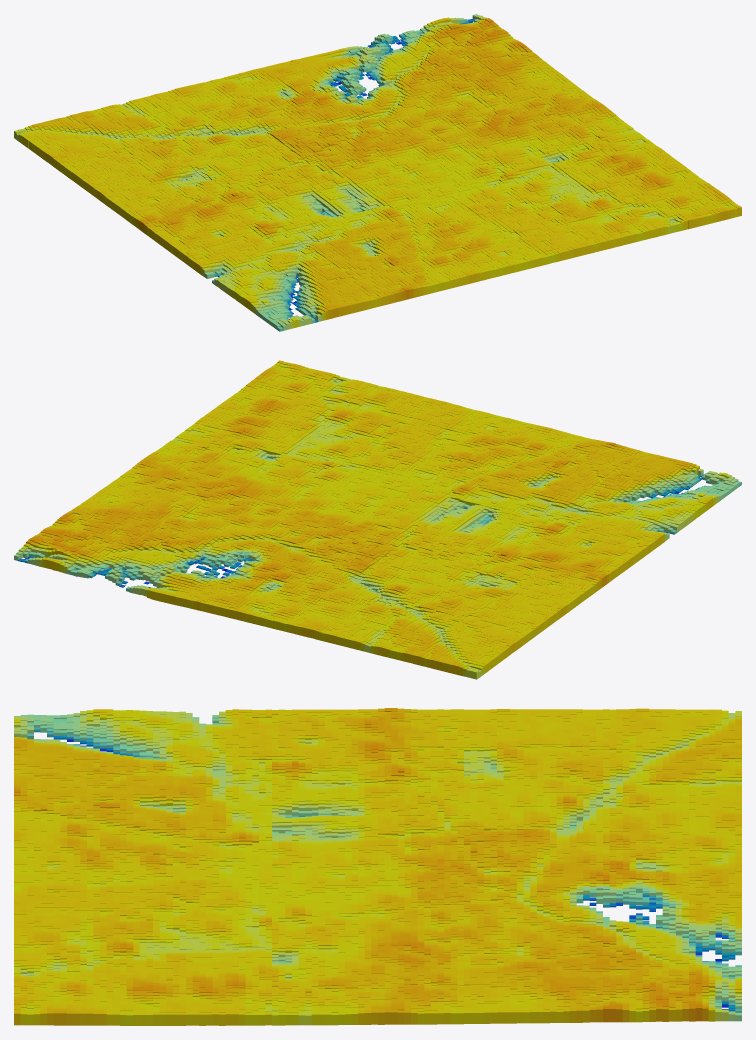
Rendered from population.glb.
The picture shows the model from 3 angles, top to bottom: view 1: azimuth 30°, elevation 25°; view 2: azimuth 150°, elevation 25°; view 3: azimuth 270°, elevation 25°; orthographic projection. The views are drawn at different scales.
Parts seen in each view (by area): view 1: population; view 2: population; view 3: population.
Part boxes in pixels (x1,y1,x2,y2): population: (14,14,741,331); population: (14,360,741,679); population: (14,708,741,1025).
Size of the model in its own units: 11034 by 459 by 10961.
